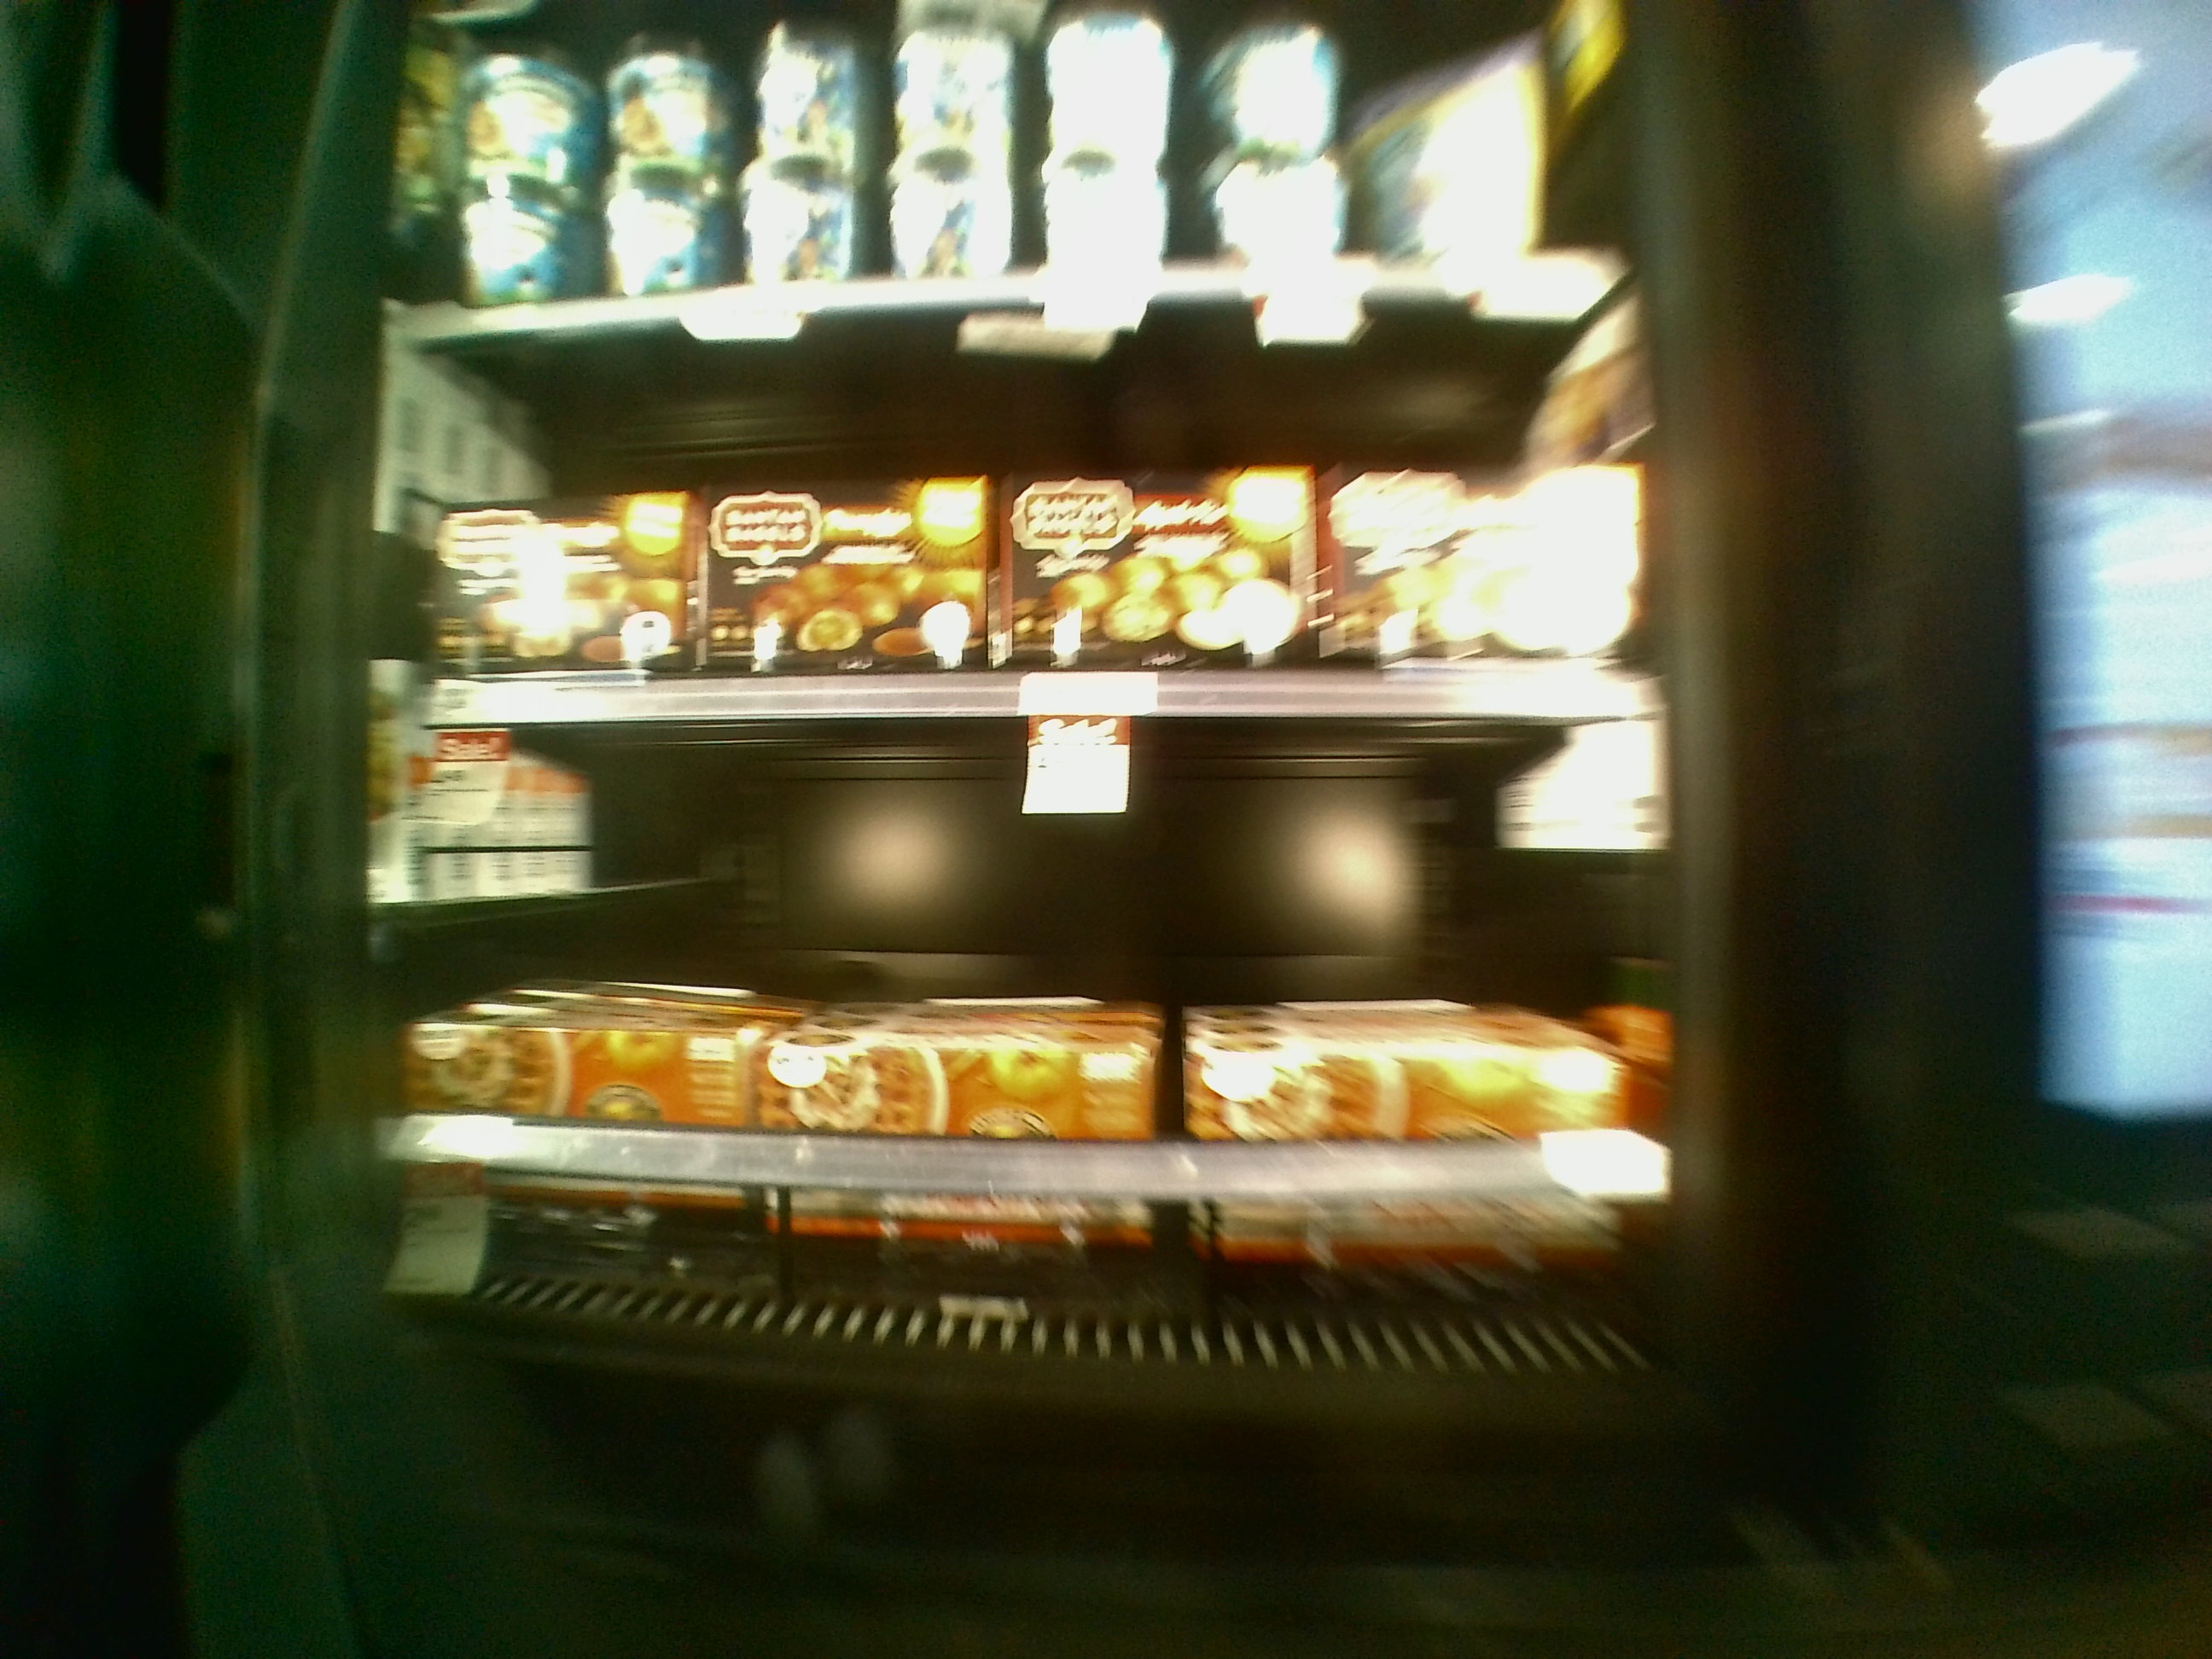shelf: (376, 734, 1669, 1202), (361, 321, 1672, 718)
